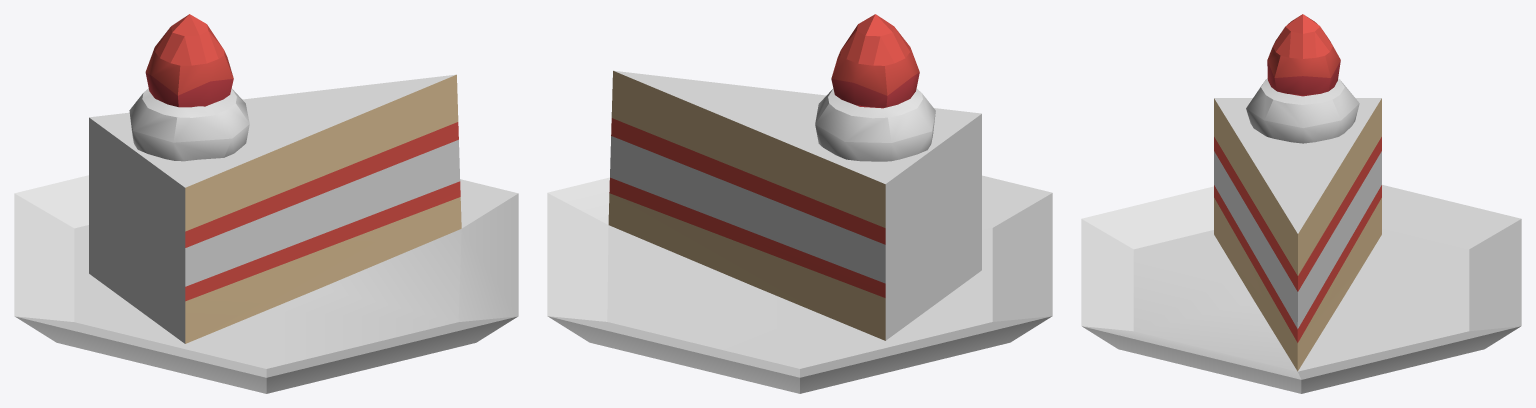
The model's file is cake_plate.fbx.
3 views of the same model, side by side, from view 1: azimuth 30°, elevation 25°; view 2: azimuth 150°, elevation 25°; view 3: azimuth 270°, elevation 25° (orthographic). The views are drawn at different scales.
Visible parts, largest first — view 1: cake_on_plate; view 2: cake_on_plate; view 3: cake_on_plate.
Boxes of the visible parts, x1,y1,x2,y2 form: cake_on_plate: [14, 14, 518, 393]; cake_on_plate: [547, 14, 1052, 393]; cake_on_plate: [1081, 14, 1521, 393].
Size of the model in its own units: 0.6148 by 0.3754 by 0.5324.
